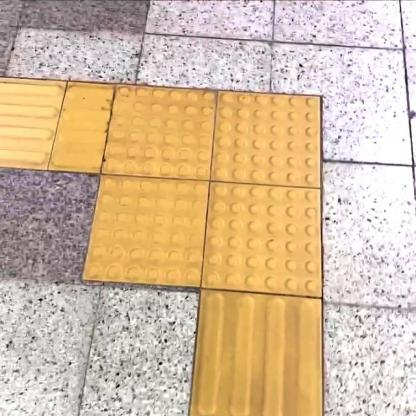podotacti: (58, 51, 348, 349)
